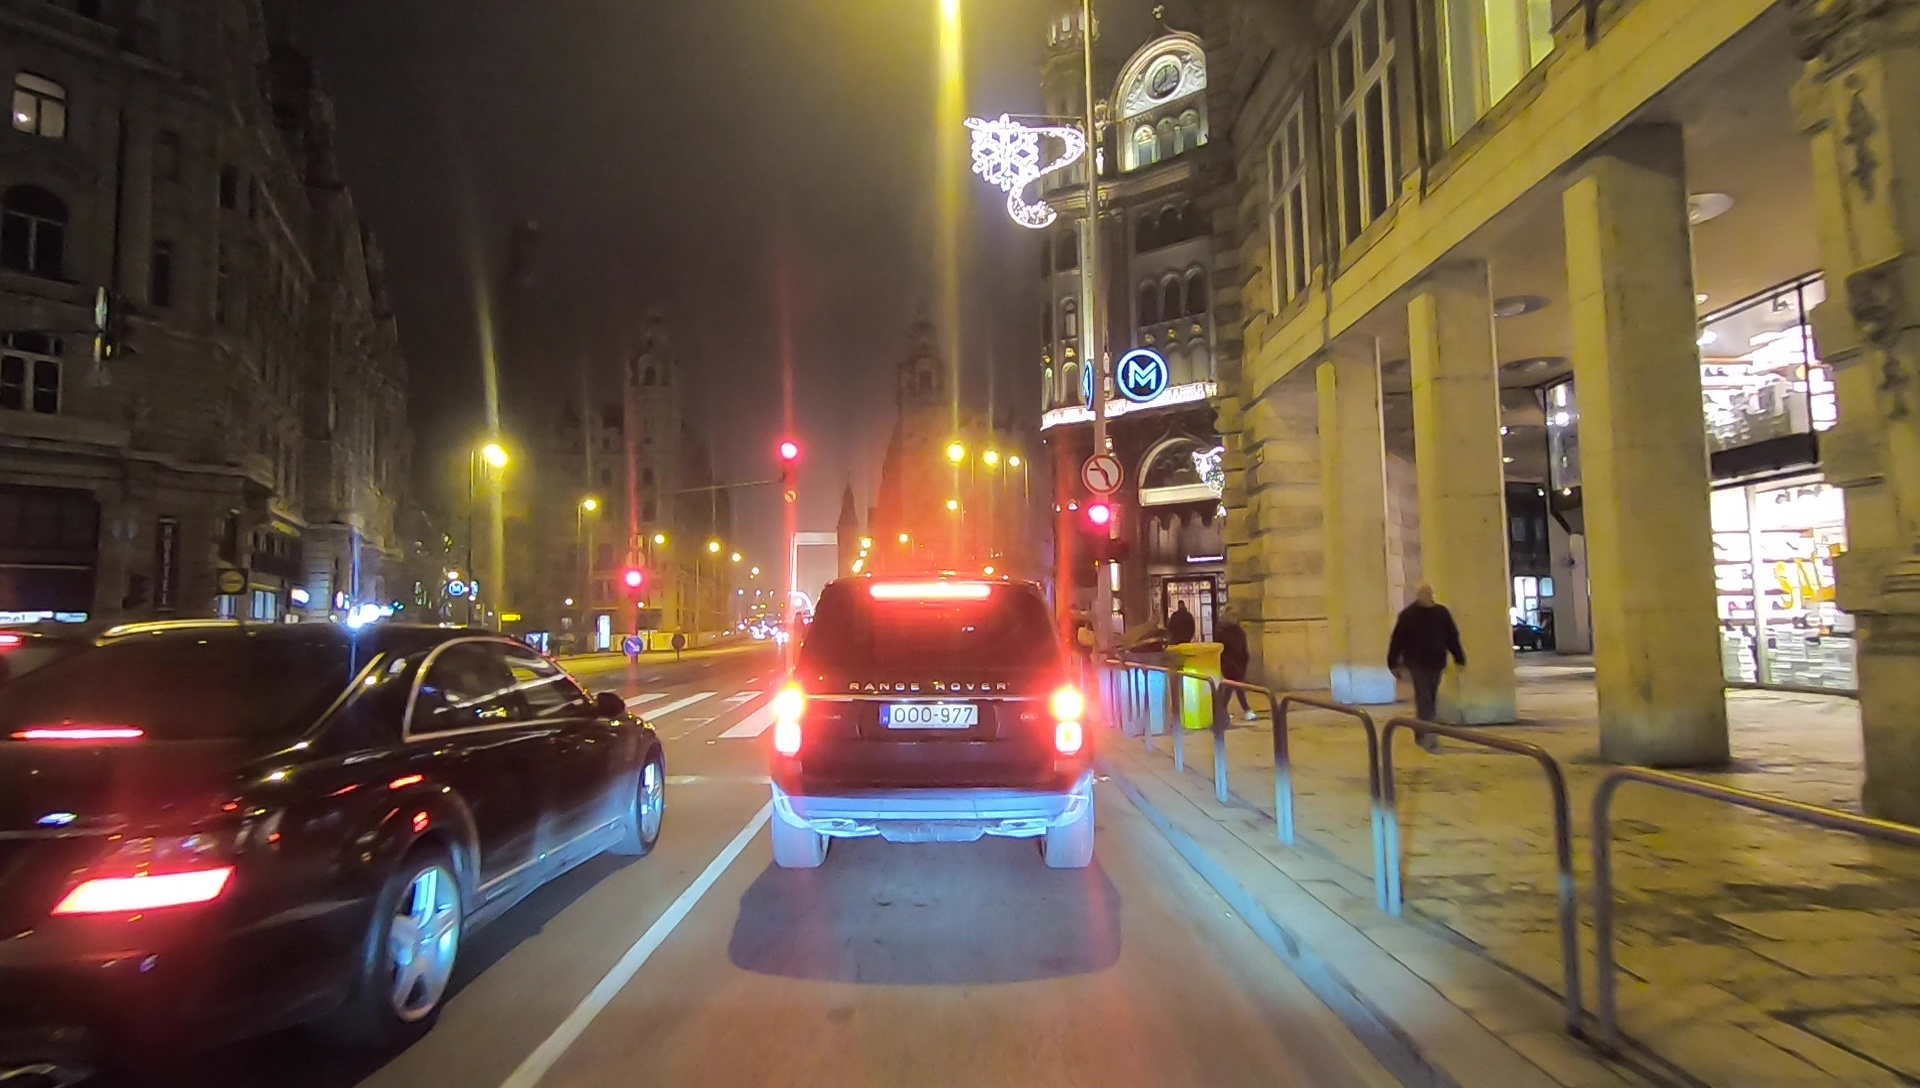person: (1383, 585, 1462, 756), (1217, 608, 1260, 721), (1168, 602, 1198, 692)
